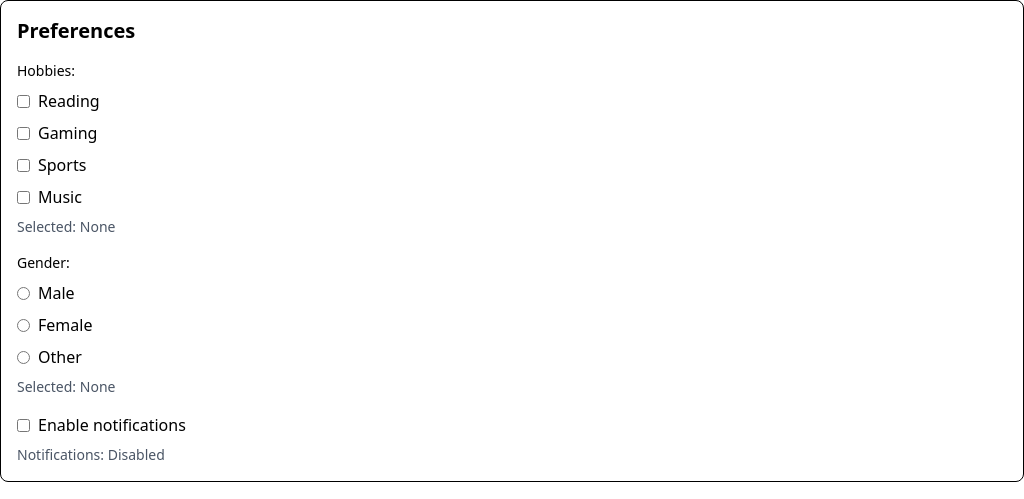
Scenario: RTL 선택 요소 상호작용 (정답) › 여러 선택 요소를 조합해서 사용할 수 있다
The width and height of the screenshot is (1024, 499).
// ✅ Reading과 Sports 체크박스를 클릭
Click the checkbox labelled "Reading" at (24, 101), box [17, 94, 30, 108]
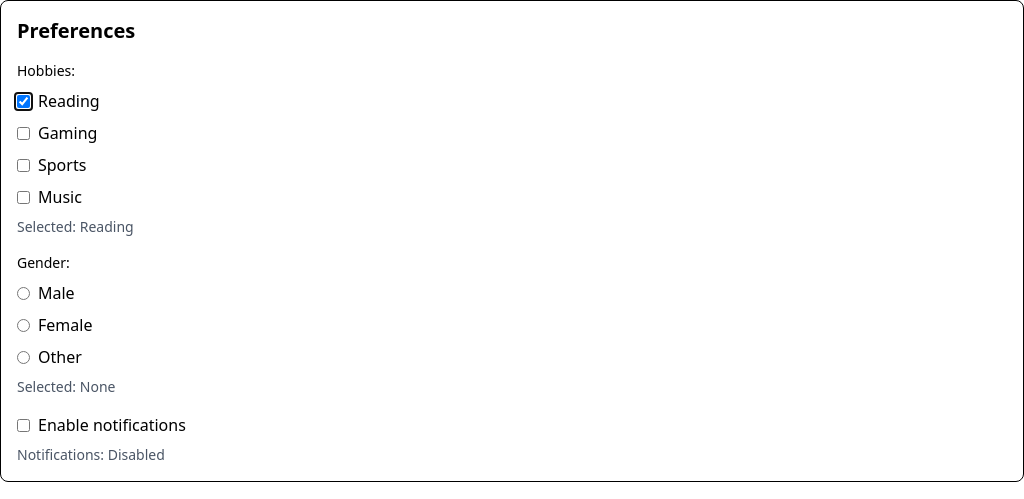
Click the checkbox labelled "Sports" at (24, 165), box [17, 158, 30, 172]
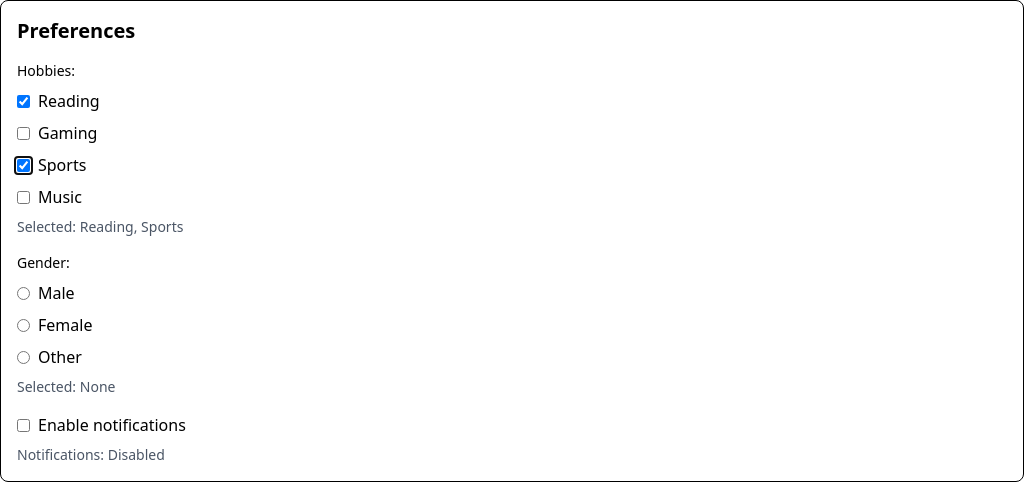
// ✅ Female 라디오 버튼을 클릭
Click the radio button labelled "Female" at (24, 325), box [17, 318, 30, 332]
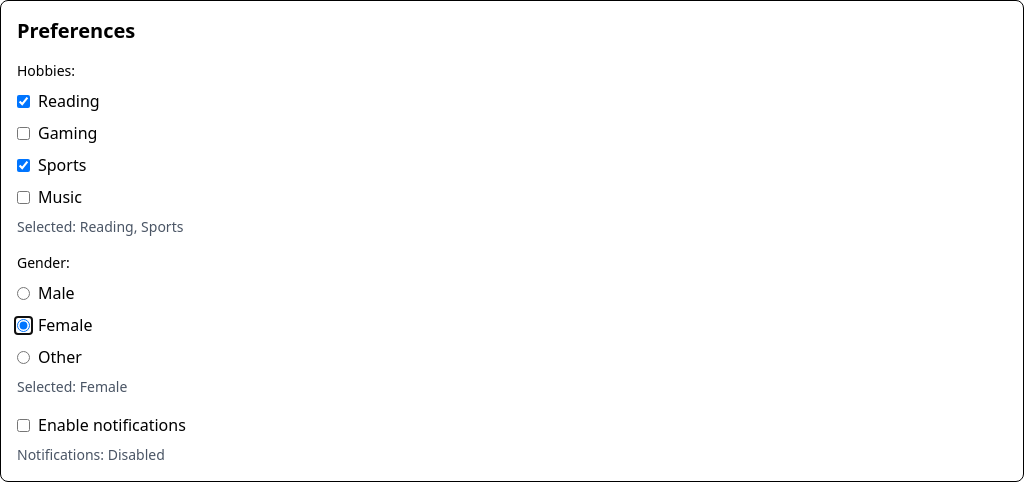
// ✅ 알림 토글을 클릭
Click the checkbox labelled "Enable notifications" at (24, 425), box [17, 418, 30, 432]
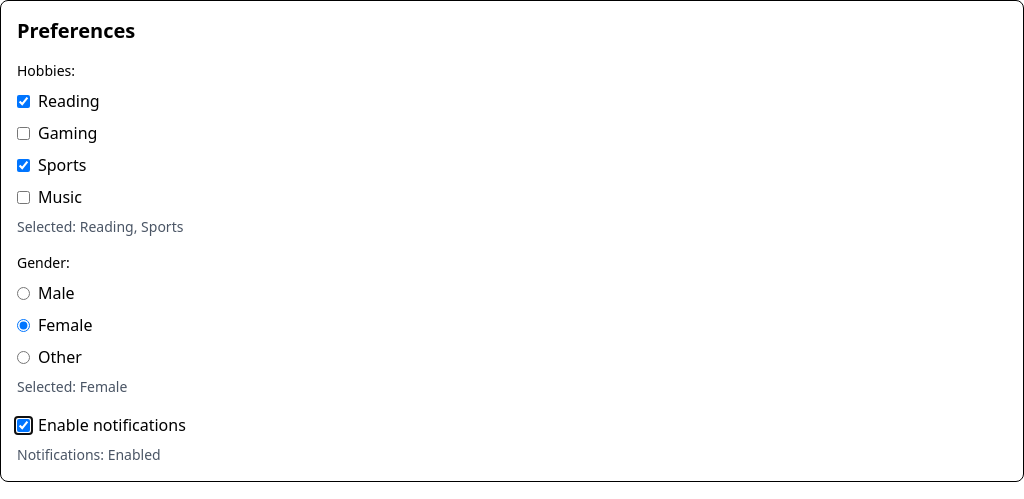
Expected: the text "Selected: Reading, Sports" is shown, [17, 217, 183, 236]
Expected: the text "Selected: Female" is shown, [17, 377, 127, 396]
Expected: the text "Notifications: Enabled" is shown, [17, 445, 161, 464]
